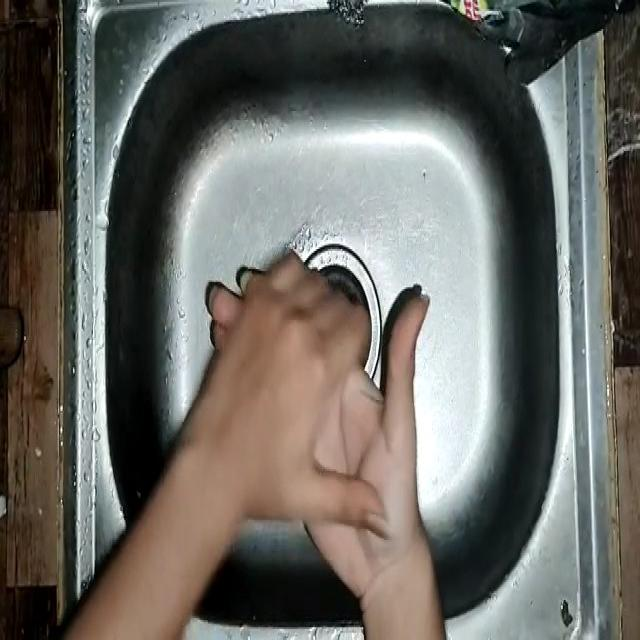step_5: (193, 238, 427, 559)
